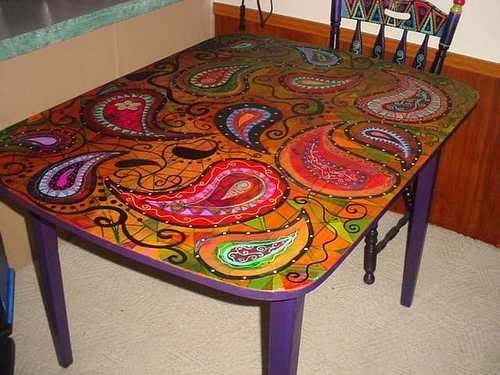obstacle: (0, 35, 478, 373)
